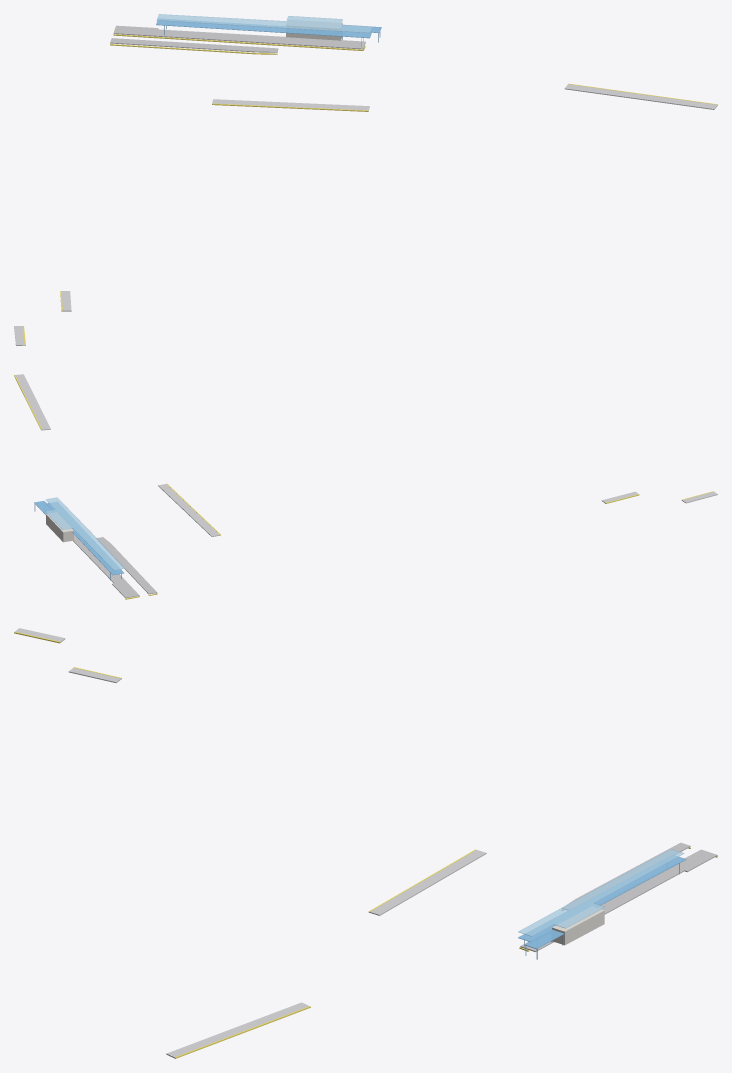
Rendered from 8576990-bern-guisanplatz-expo.glb.
3 views of the same model, one above another, from view 1: azimuth 30°, elevation 25°; view 2: azimuth 150°, elevation 25°; view 3: azimuth 270°, elevation 25° (orthographic). The views are drawn at different scales.
Visible parts, largest first — view 1: platform_surface@0, platform_body@0, roof@0, shelter@0, boarding_edge@0, building_part@x; view 2: platform_body@0, platform_surface@0, roof@0, shelter@0, building_part@x, boarding_edge@0; view 3: platform_body@0, platform_surface@0, roof@0, shelter@0, building_part@x, boarding_edge@0.
Boxes of the visible parts, left/top/right/bottom form: platform_surface@0: left=110, top=25, right=365, bottom=52; platform_body@0: left=14, top=84, right=717, bottom=345; roof@0: left=156, top=14, right=371, bottom=33; shelter@0: left=156, top=18, right=381, bottom=46; boarding_edge@0: left=22, top=27, right=717, bottom=345; building_part@x: left=286, top=20, right=342, bottom=40; platform_body@0: left=15, top=374, right=717, bottom=536; platform_surface@0: left=73, top=534, right=157, bottom=598; roof@0: left=45, top=497, right=124, bottom=570; shelter@0: left=34, top=501, right=123, bottom=580; building_part@x: left=46, top=512, right=73, bottom=542; boarding_edge@0: left=14, top=375, right=713, bottom=599; platform_body@0: left=15, top=628, right=486, bottom=1058; platform_surface@0: left=520, top=842, right=717, bottom=951; roof@0: left=518, top=849, right=684, bottom=936; shelter@0: left=518, top=855, right=686, bottom=959; building_part@x: left=552, top=906, right=604, bottom=945; boarding_edge@0: left=14, top=632, right=717, bottom=1058.
Size of the model in its own units: 237 by 5.25 by 163.
